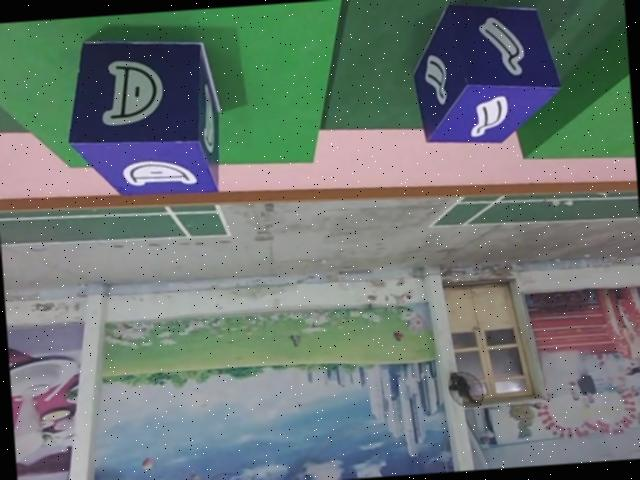R2 Real Blue: (61, 31, 225, 205), (407, 0, 562, 147)
